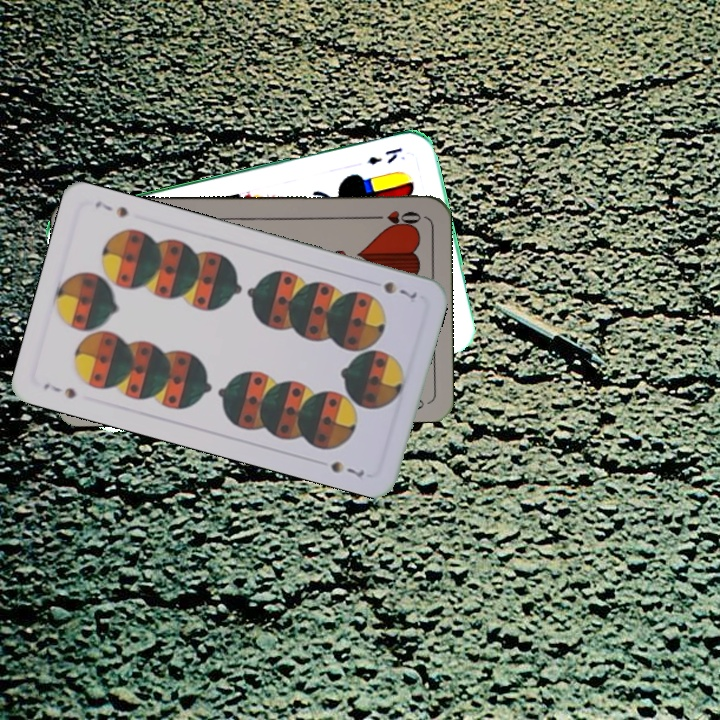EK: (363, 143, 405, 167)
HO: (366, 206, 424, 228)
S7: (379, 277, 420, 302), (39, 379, 79, 401)
